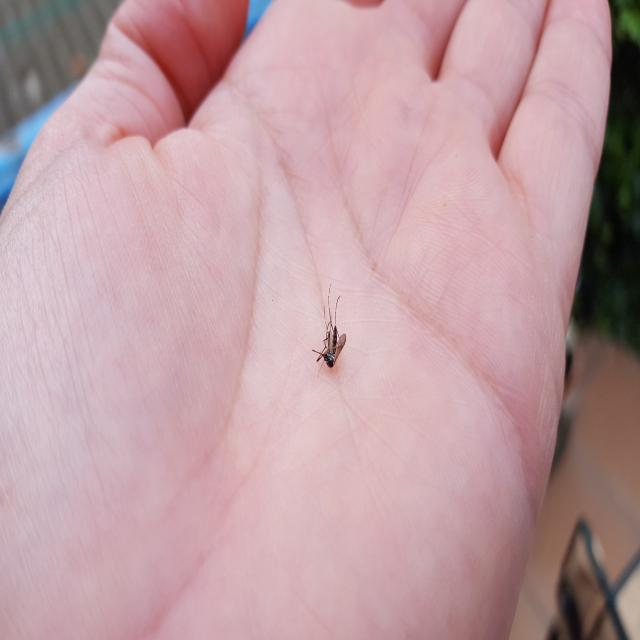albopictus: (309, 280, 347, 375)
